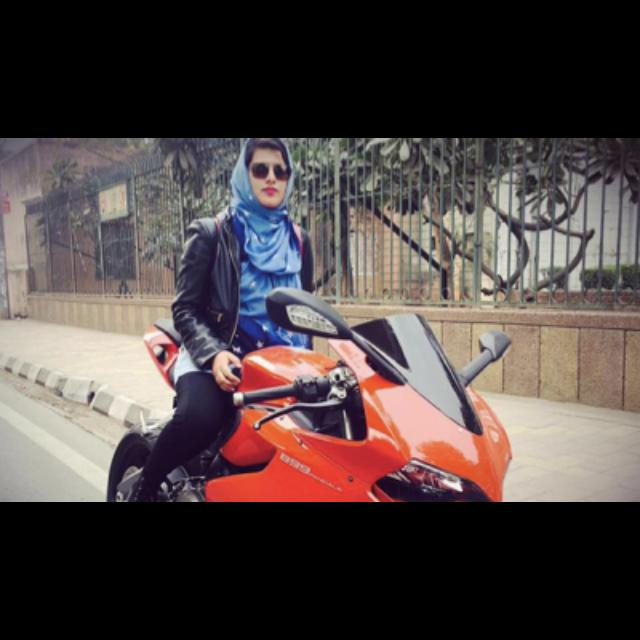Without Helmet: (238, 138, 300, 210)
